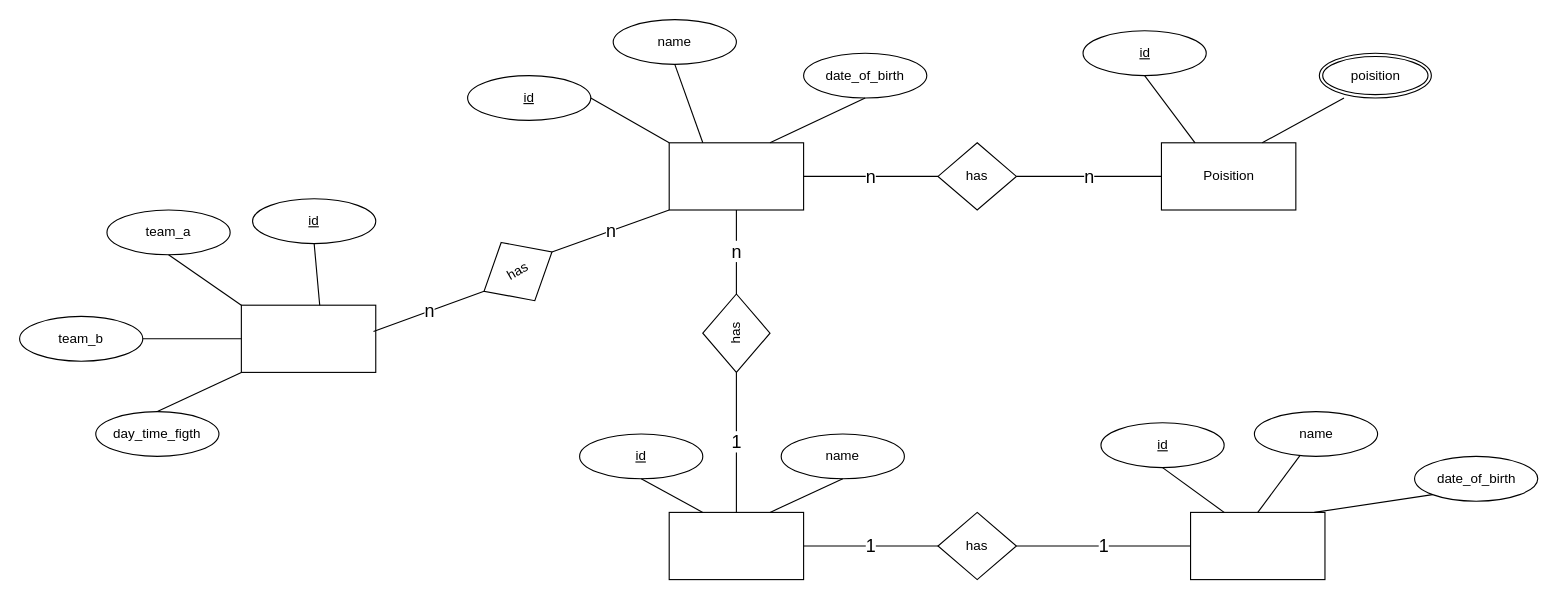
This 1558x599 diagram has some shape labels left out. The centre of each missing label's shape, as x and y in pixels:
"Coach" goes at point 1257,545.
"Match" goes at point 308,338.
"Player" goes at point 736,176.
"Team" goes at point 736,545.
